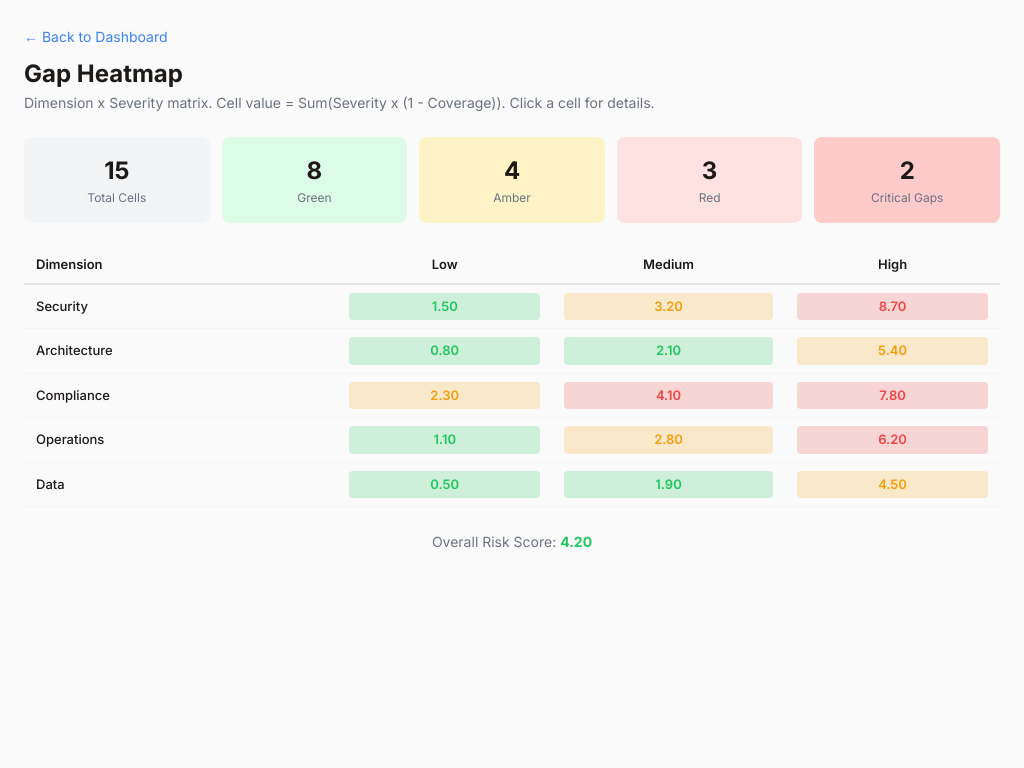
Test: HeatmapPage › Cell Interaction › allows closing drilldown panel
Check: the text "Security" is shown, box x1=24 y1=284 x2=338 y2=328
# Click on Security High cell
Click the button "8.70" at (893, 306), box x1=797 y1=292 x2=988 y2=320
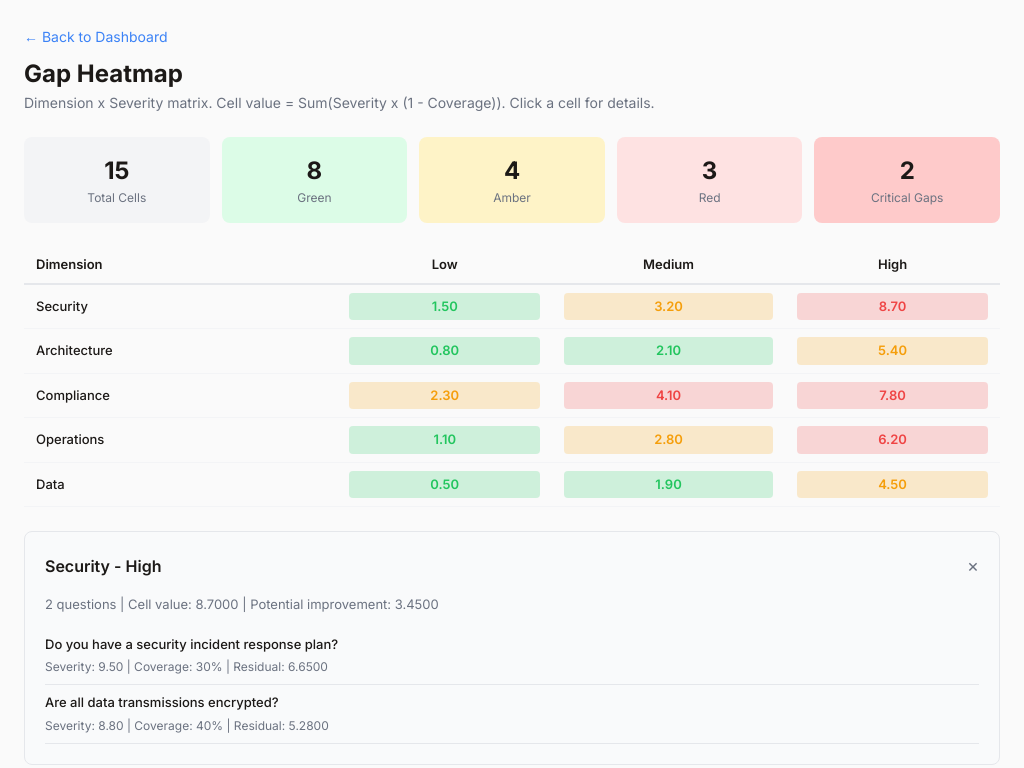
Check: the heading "Security - High" is shown, box x1=45 y1=554 x2=162 y2=578
# Click close button
Click the button "×" at (973, 566), box x1=967 y1=552 x2=979 y2=579
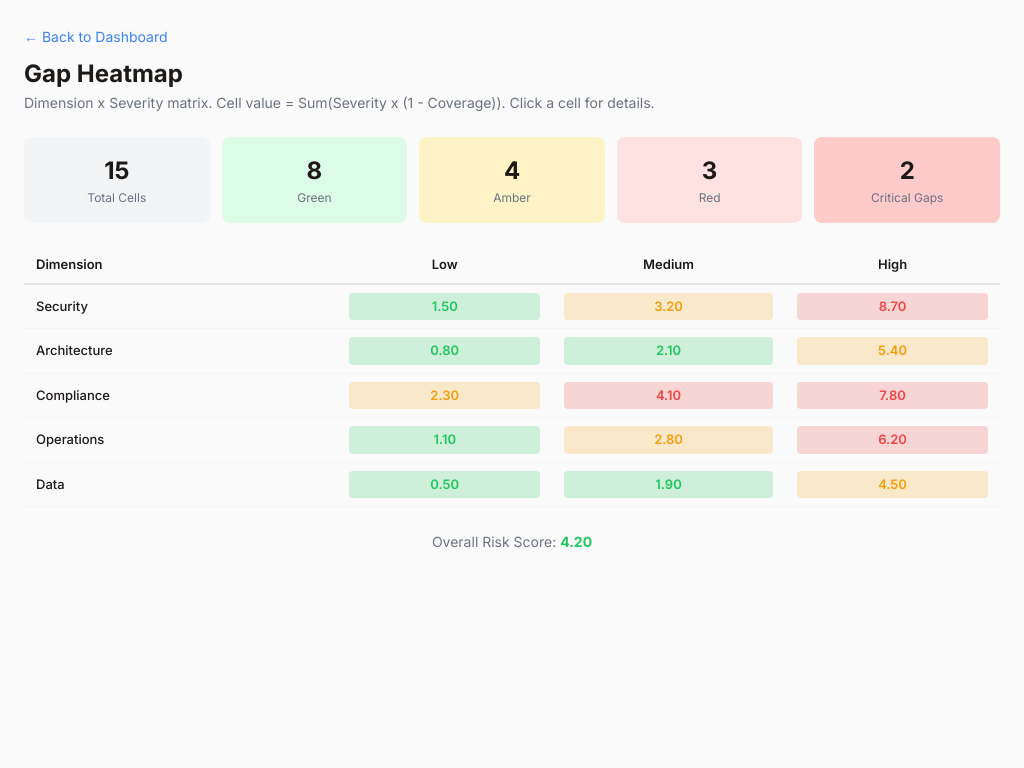
Check: the heading "Security - High" is gone
